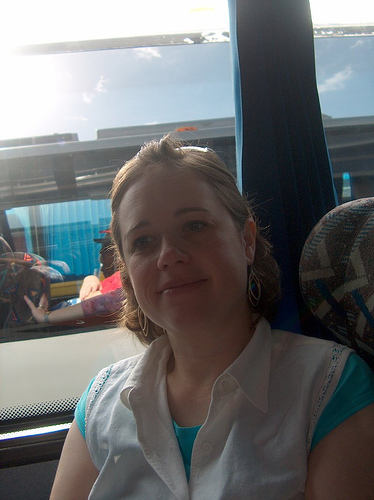without_mask: (111, 170, 265, 338)
